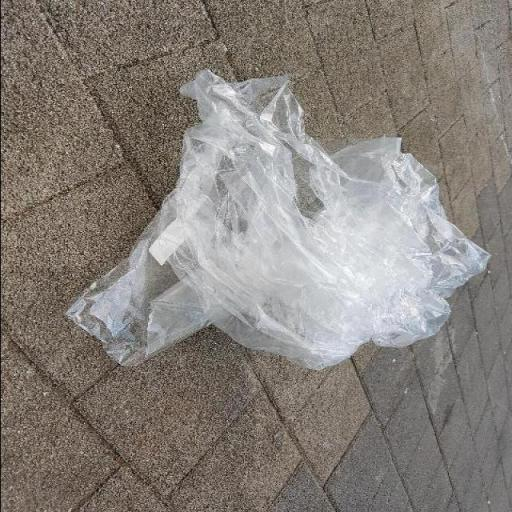plastic-bag: (62, 69, 492, 375)
